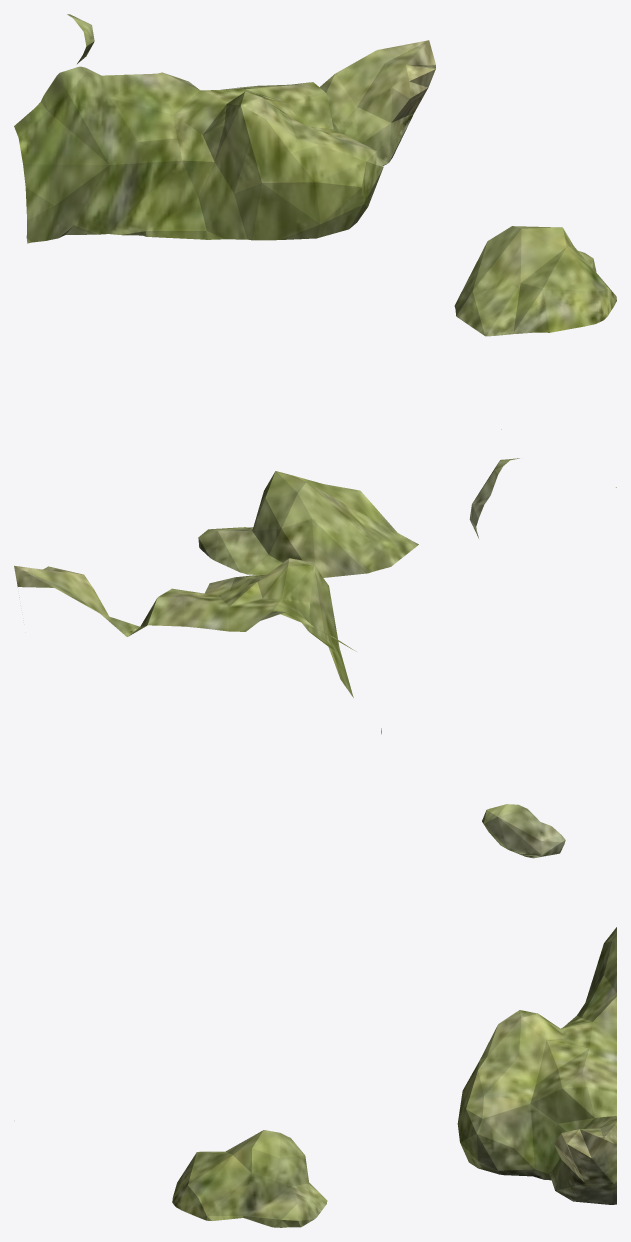
The picture shows the model from 3 angles, top to bottom: view 1: azimuth 30°, elevation 25°; view 2: azimuth 150°, elevation 25°; view 3: azimuth 270°, elevation 25°; orthographic projection. The views are drawn at different scales.
Bounding box in the file's own units: 1.77 × 1.07 × 2.42.
Materials: 1 (1 with a texture image).
